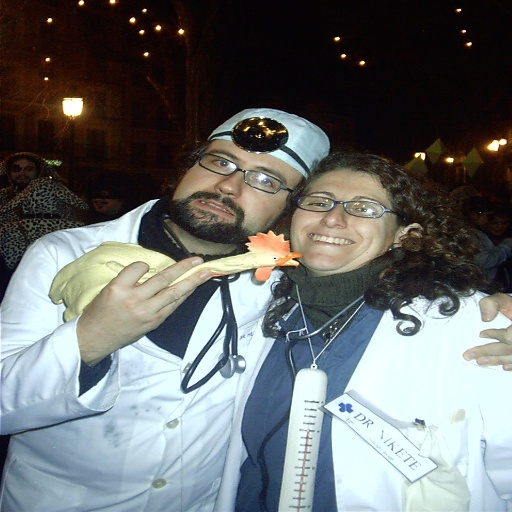hand: (45, 230, 254, 375), (460, 291, 510, 371)
